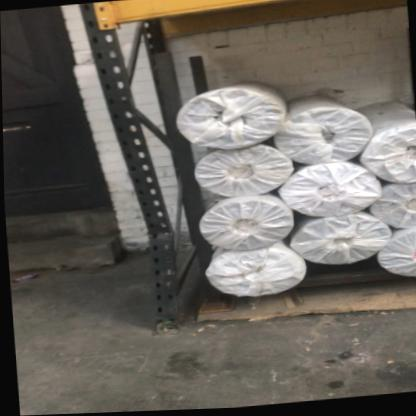vertical_damage: (138, 208, 182, 265)
